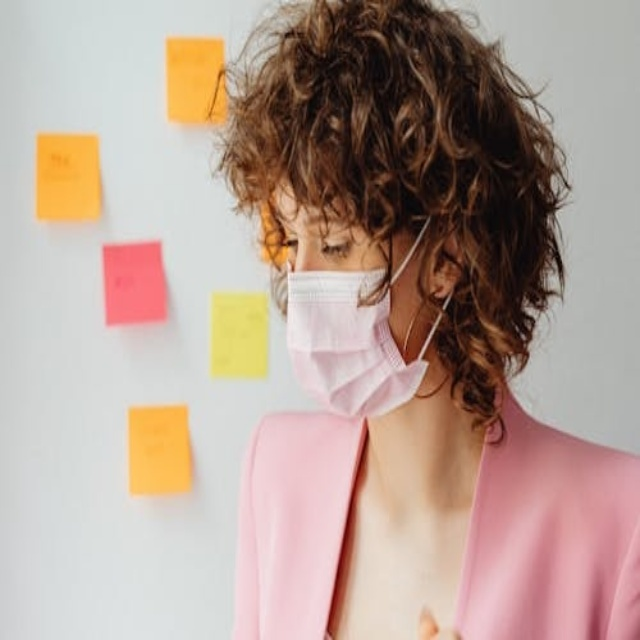Mascara: (285, 214, 443, 419)
Sin_gafas: (275, 194, 360, 263)
